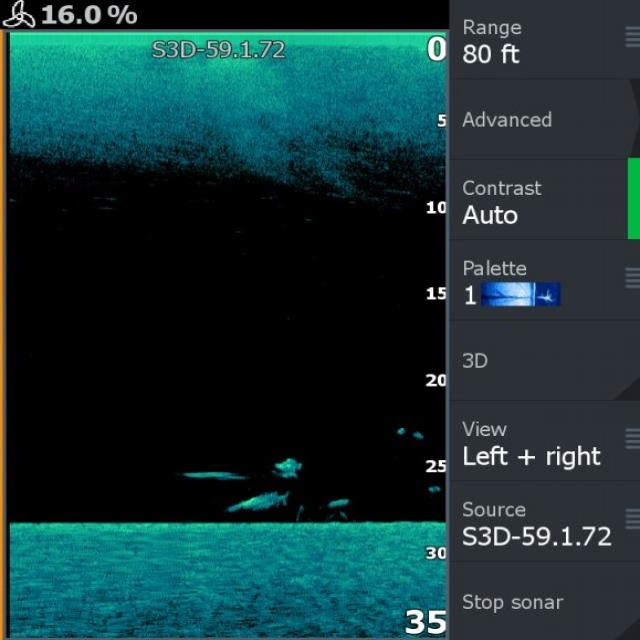fish: (222, 488, 290, 512), (184, 466, 248, 482), (272, 455, 303, 481), (328, 494, 347, 510)
